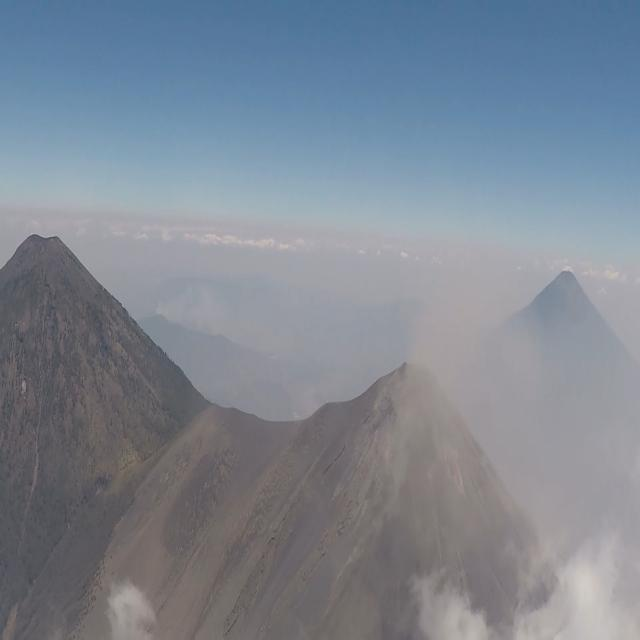Summit: (296, 348, 524, 513)
